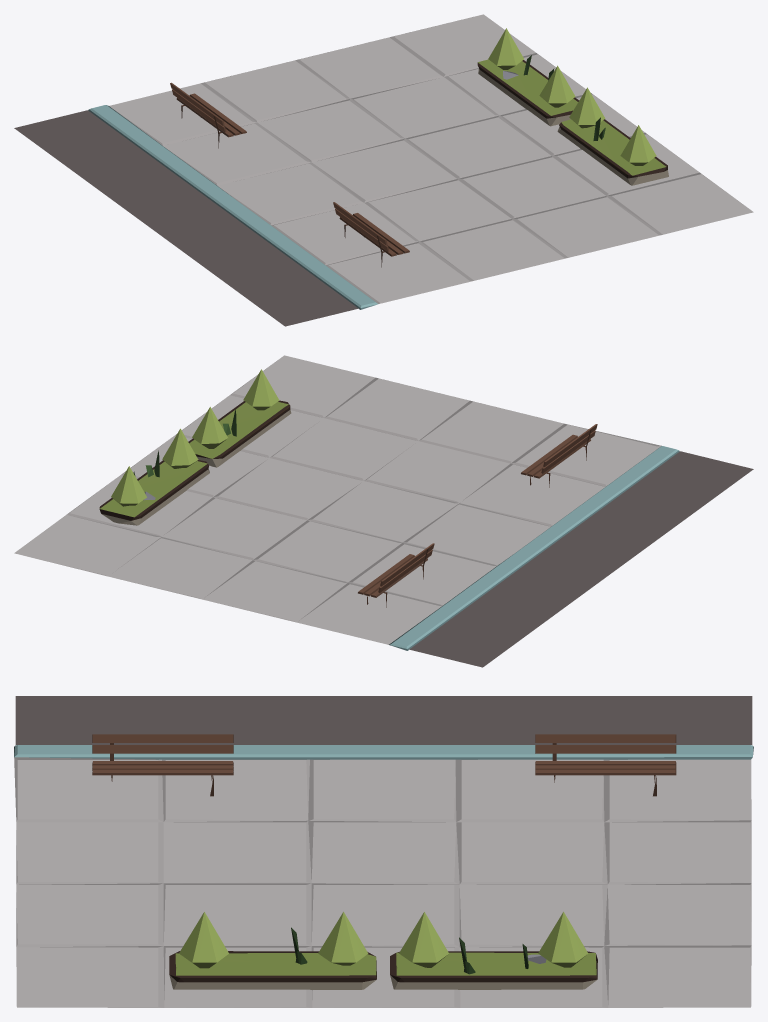
File: QmTq4g7Ry24YY68wAinLwk4Epit1PF1VjpUXQjF3VBaRAu_lod2.fbx
The picture shows the model from 3 angles, top to bottom: view 1: azimuth 30°, elevation 25°; view 2: azimuth 150°, elevation 25°; view 3: azimuth 270°, elevation 25°; orthographic projection. The views are drawn at different scales.
Parts seen in each view (by area): view 1: Entity_512; view 2: Entity_512; view 3: Entity_512.
Boxes of the visible parts, x1=… form: Entity_512: x1=14, y1=14, x2=753, y2=326; Entity_512: x1=14, y1=355, x2=753, y2=667; Entity_512: x1=14, y1=696, x2=753, y2=1007.
Size of the model in its own units: 15918 by 1591 by 16000.
1 material, 1 textured.
